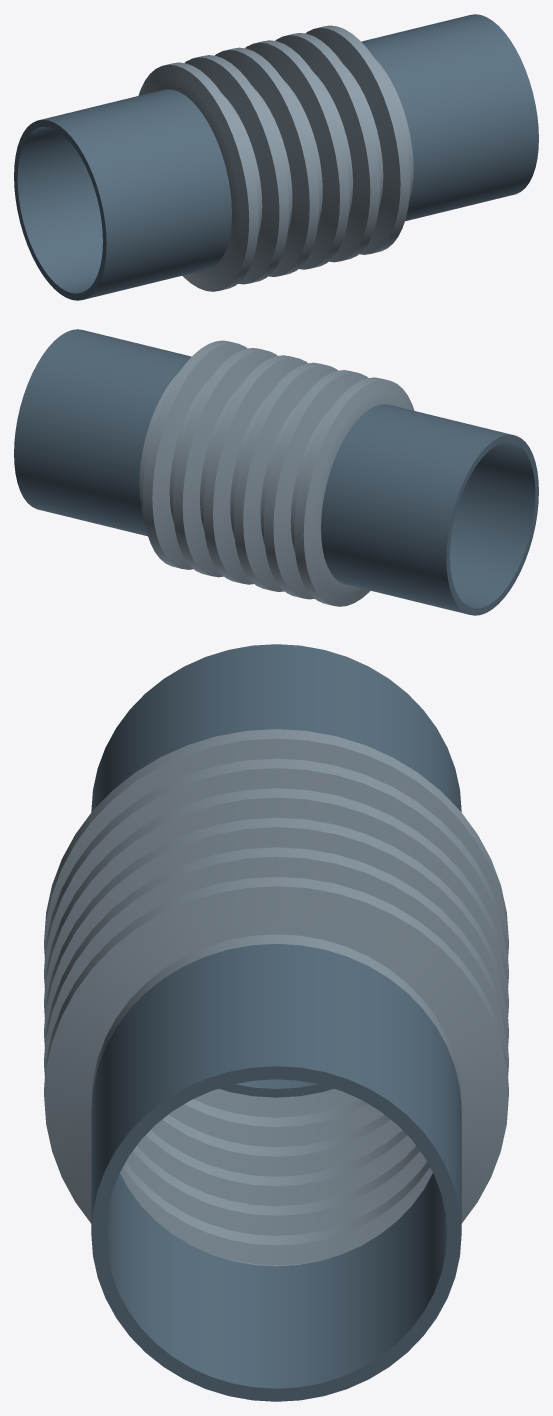
The model's file is silf-dn80-L240-D89.glb.
3 renders of one model, top to bottom at view 1: azimuth 30°, elevation 25°; view 2: azimuth 150°, elevation 25°; view 3: azimuth 270°, elevation 25°, orthographic. The views are drawn at different scales.
Visible parts, largest first — view 1: prokladka_silfon_1, patrubok_1, patrubok_2; view 2: prokladka_silfon_1, patrubok_1, patrubok_2; view 3: prokladka_silfon_1, patrubok_2, patrubok_1.
Boxes of the visible parts, x1,y1,x2,y2 form: prokladka_silfon_1: (138,25,413,291); patrubok_1: (14,89,231,300); patrubok_2: (361,14,538,221); prokladka_silfon_1: (139,340,414,606); patrubok_1: (321,404,538,615); patrubok_2: (14,329,191,536); prokladka_silfon_1: (44,729,508,1266); patrubok_2: (91,944,461,1401); patrubok_1: (91,644,461,1097).
Size of the model in its own units: 240 by 112 by 112.
